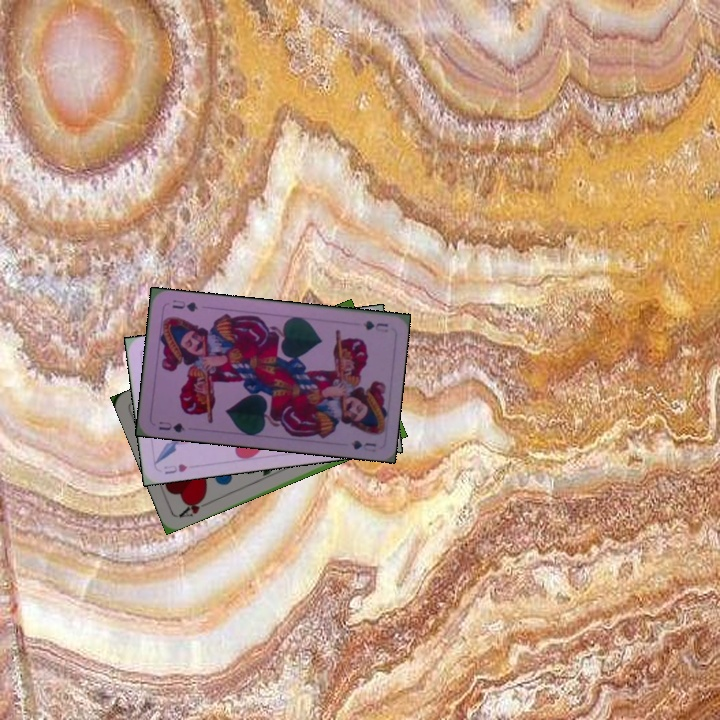GU: (155, 417, 187, 435), (359, 317, 391, 335)
HA: (175, 493, 213, 520)
HU: (160, 460, 190, 477)
